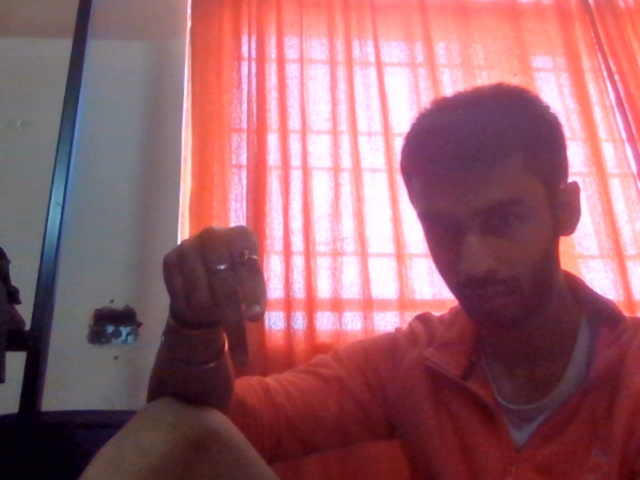P: (148, 212, 314, 403)
